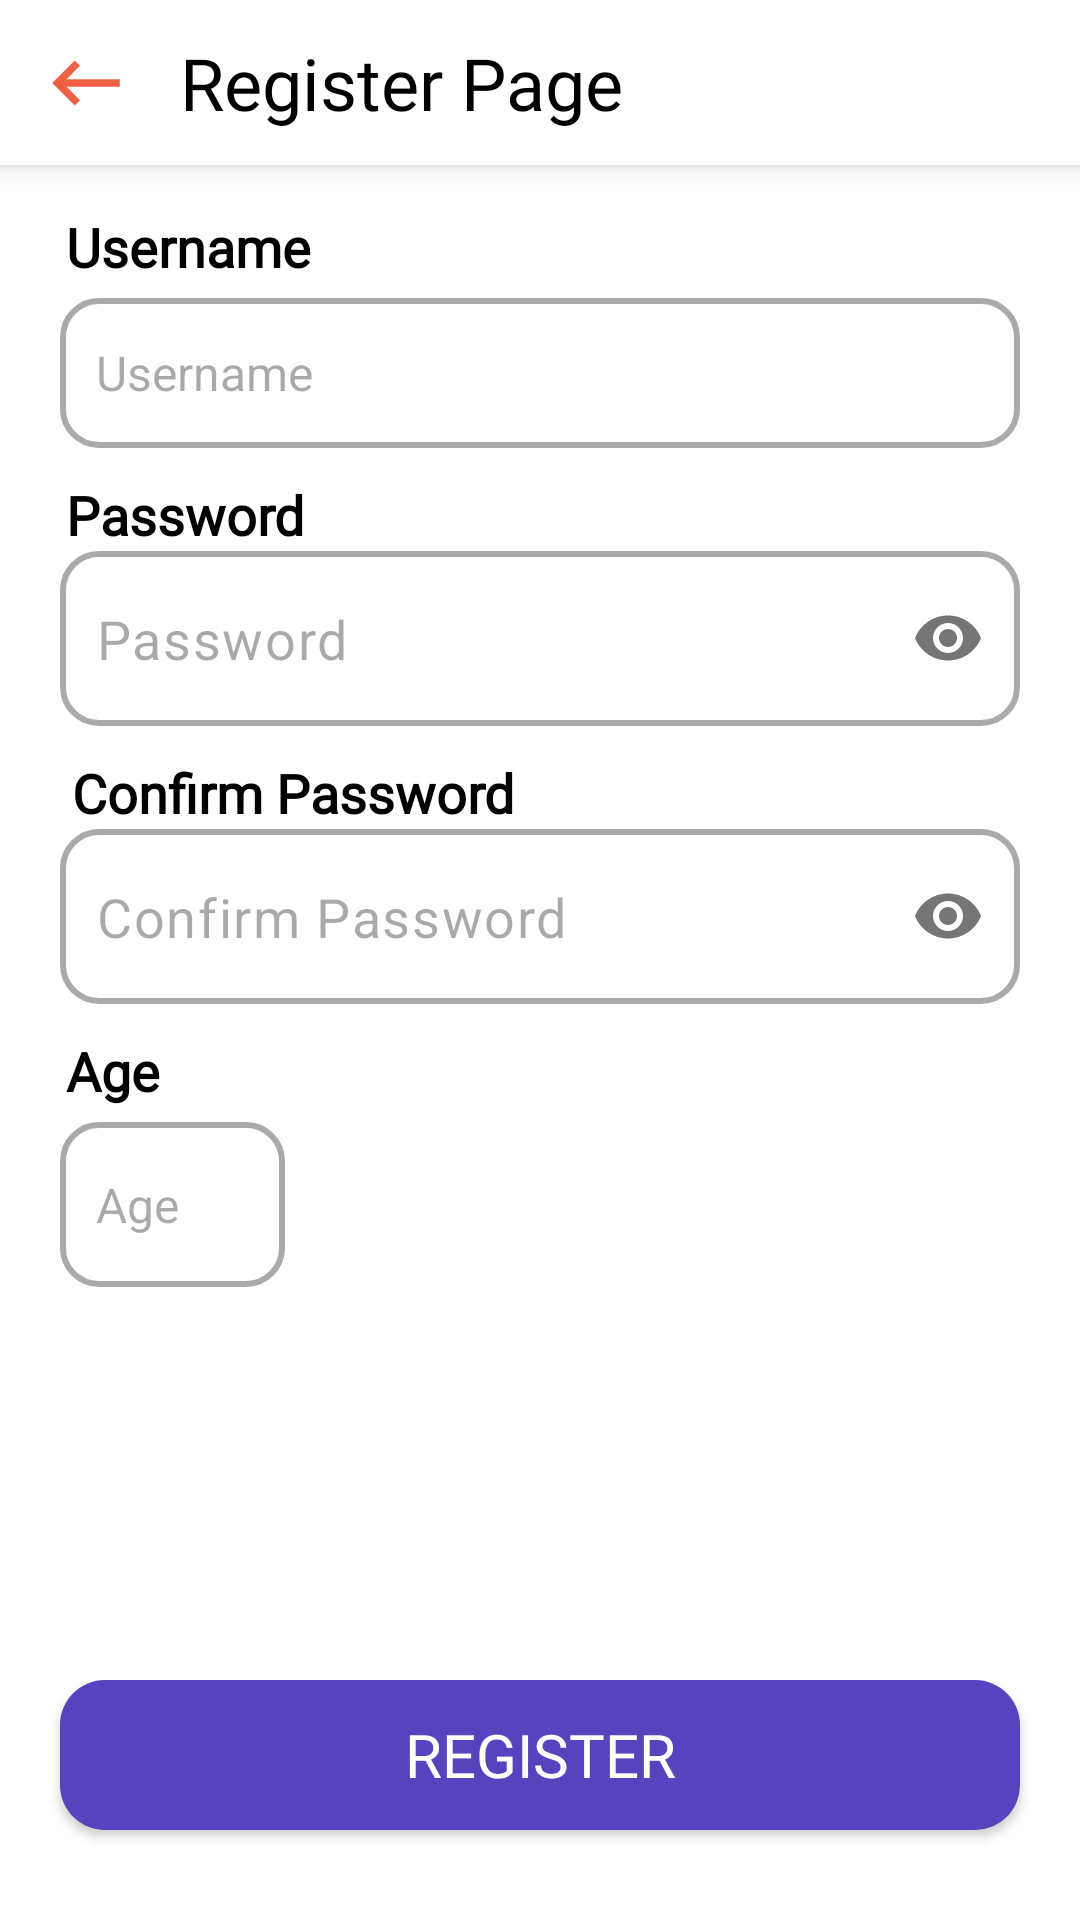

Icons on this 1080px x 1920px Android screen, each with its box as (x1, y1, x2, y2):
back: (52, 60, 120, 106)
